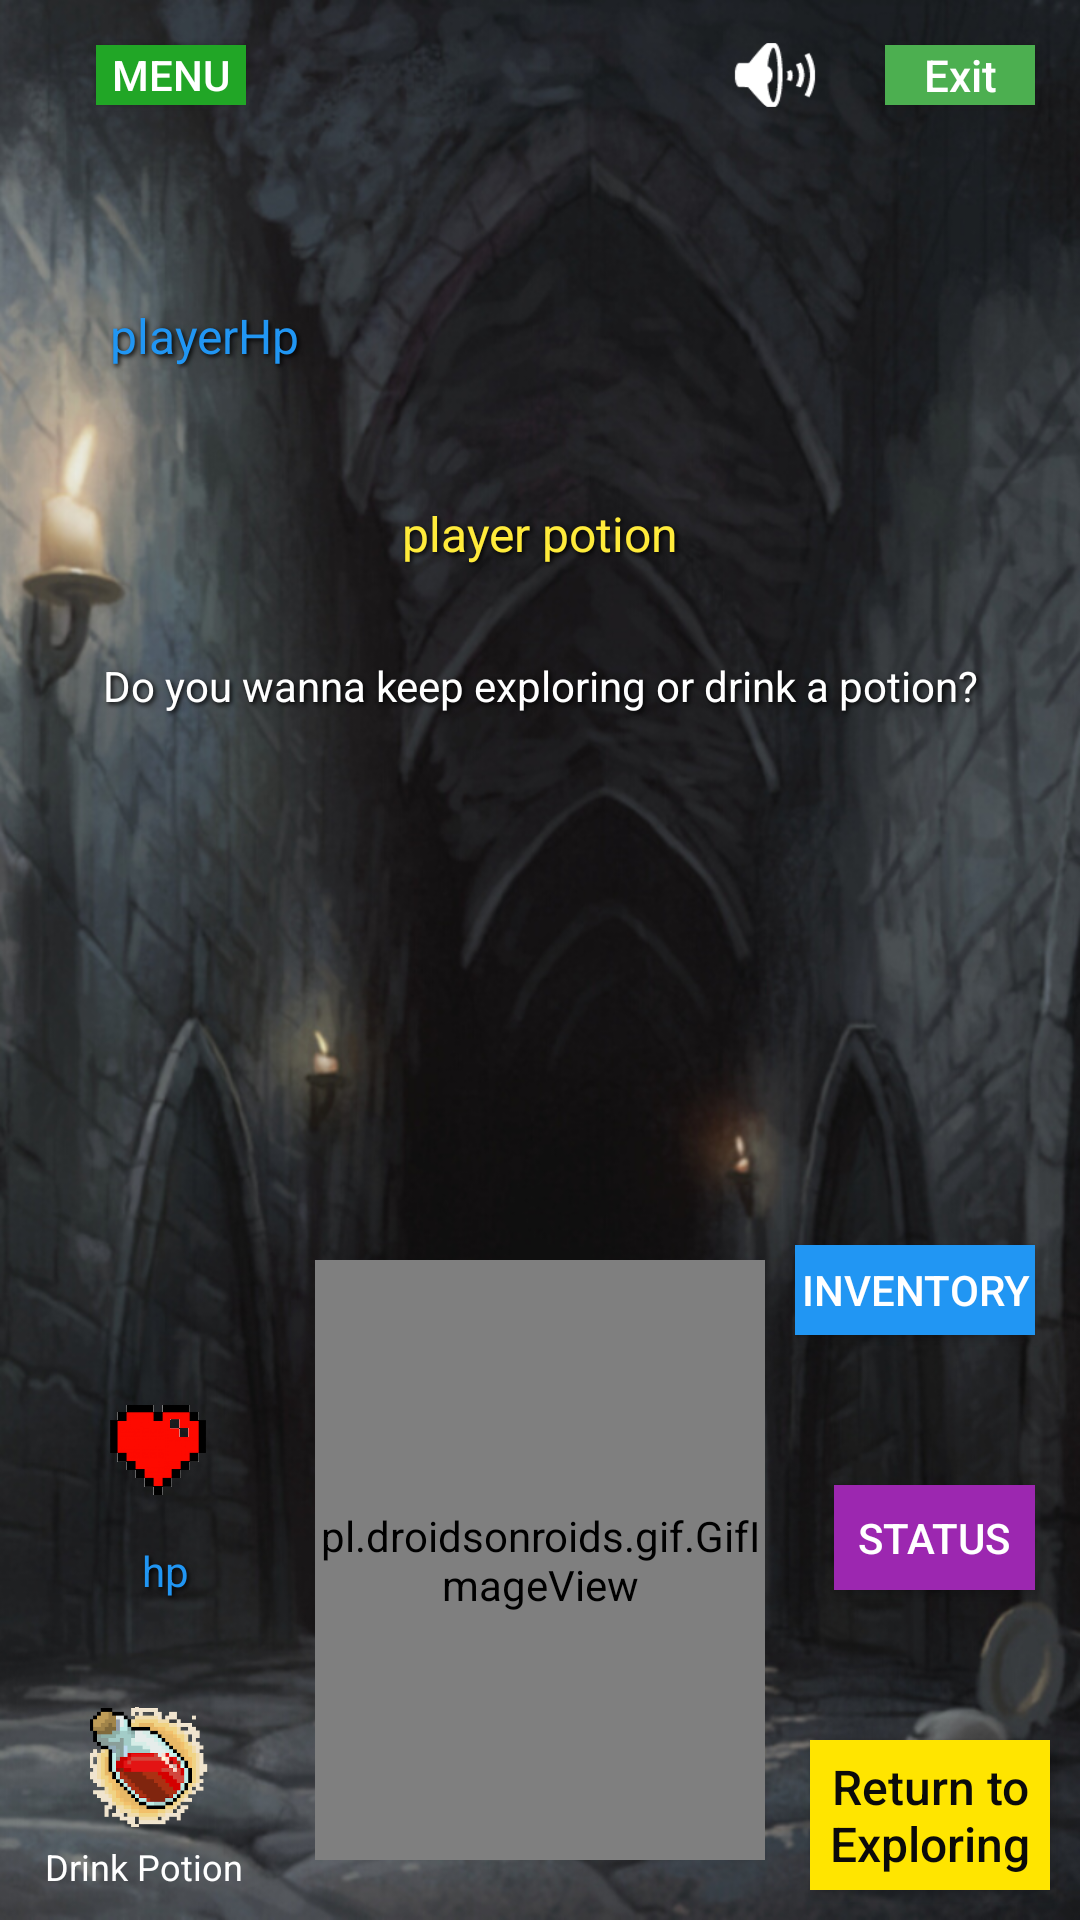

Where icons sit on this 1080 × 1920 app screen, as detection(x1, y1, x2, y2):
lock silent mode off: detection(734, 43, 815, 107)
